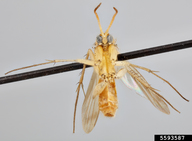Fruit fly: (78, 2, 163, 135)
